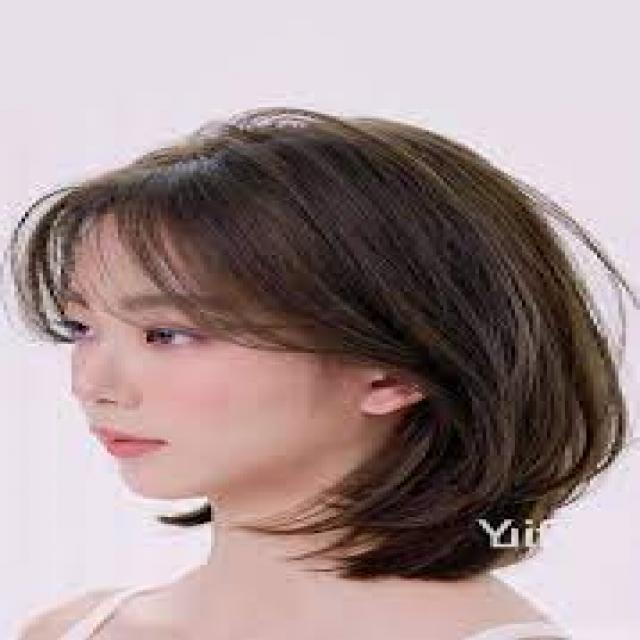Nonhelmet: (0, 93, 640, 604)
